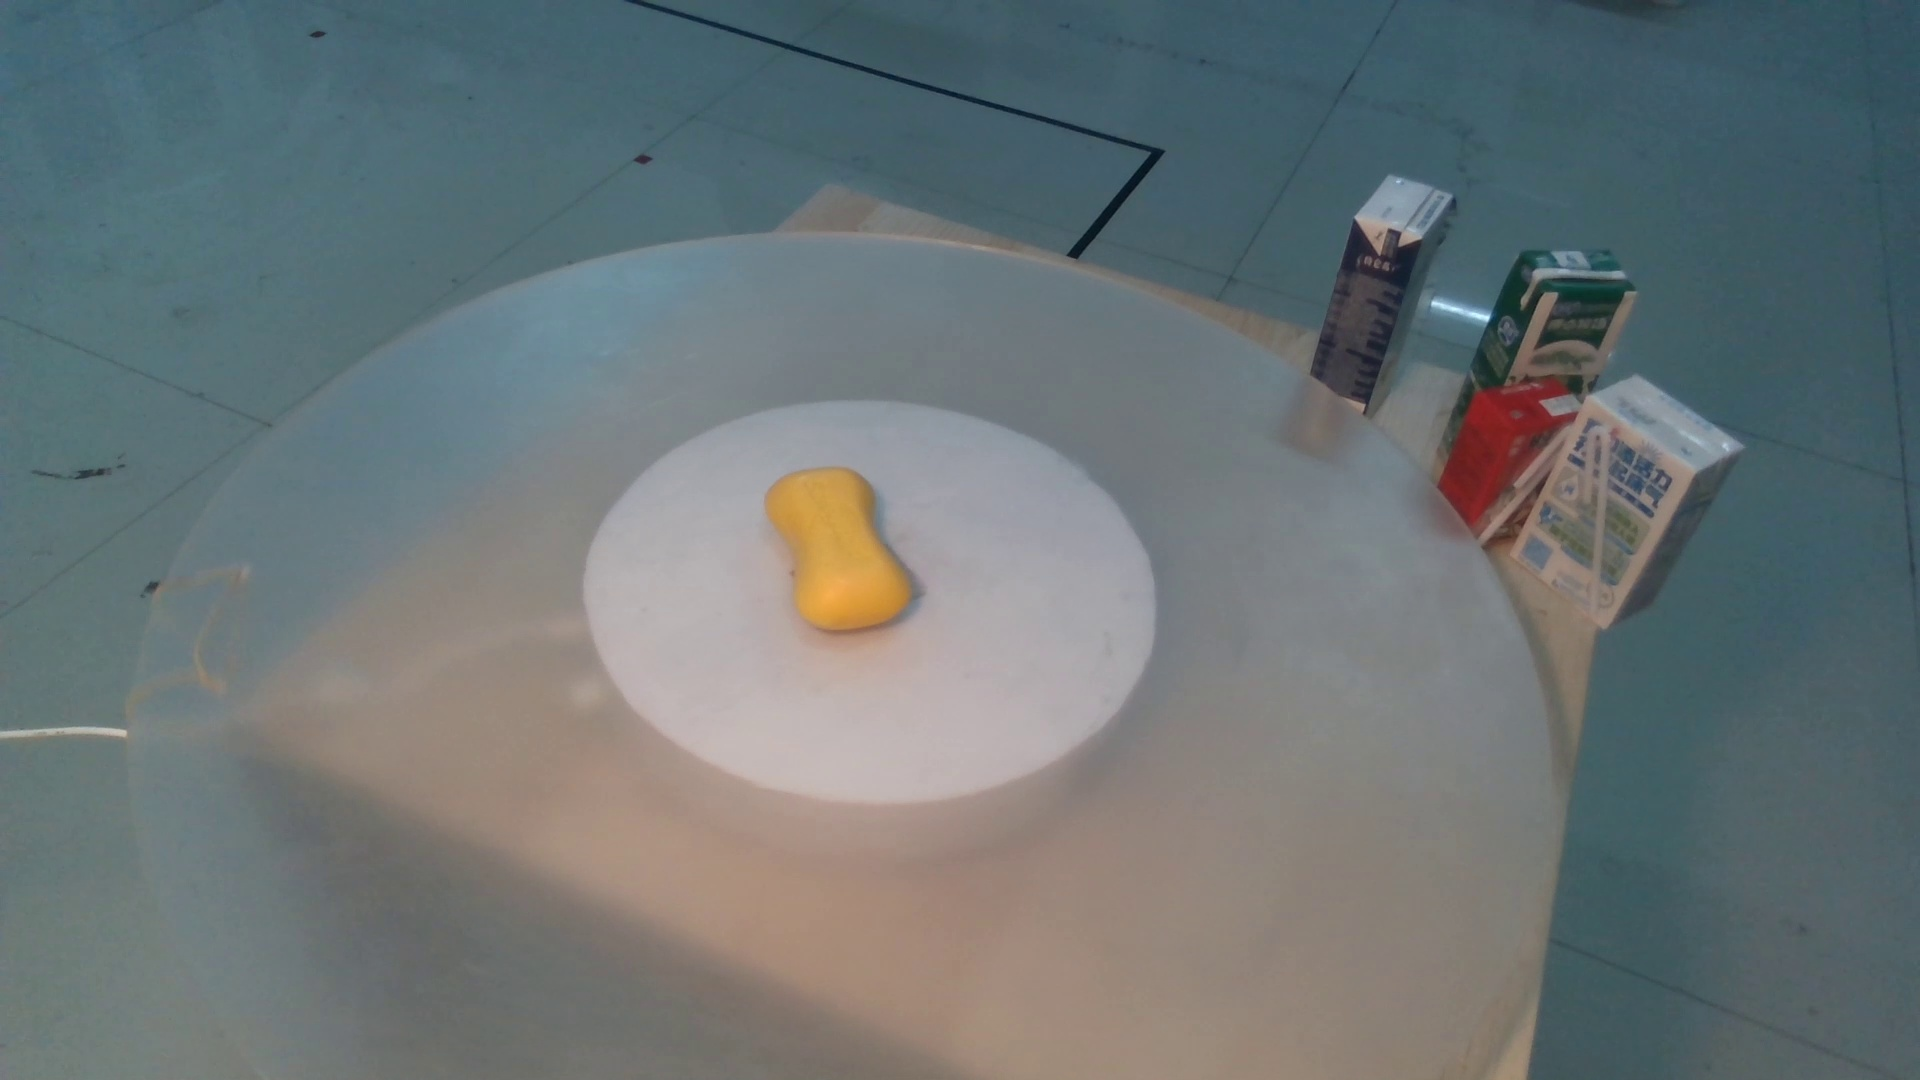CA003_1: (742, 455, 923, 646)
